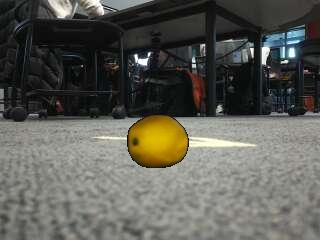lemon: (130, 116, 189, 168)
